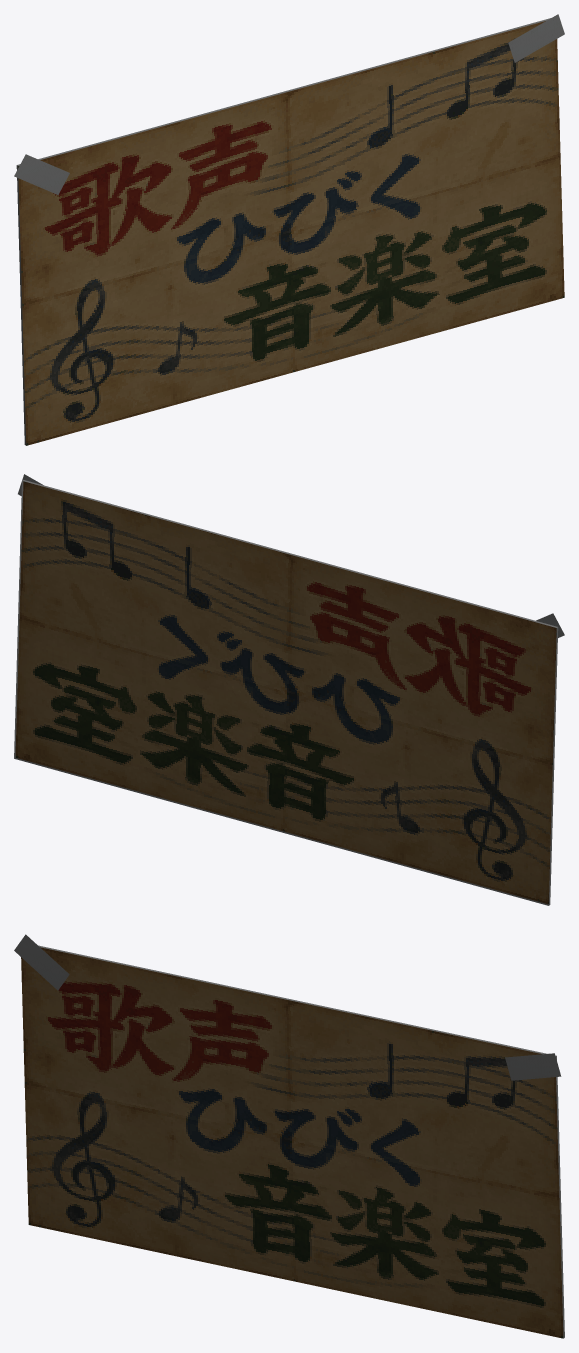
Rendered from prop_poster-ongaku-2.glb.
3 views of the same model, one above another, from view 1: azimuth 30°, elevation 25°; view 2: azimuth 150°, elevation 25°; view 3: azimuth 330°, elevation 25° (orthographic).
Parts seen in each view (by area): view 1: prop_poster-ongaku-2; view 2: prop_poster-ongaku-2; view 3: prop_poster-ongaku-2.
Part boxes in pixels (x1,y1,x2,y2): prop_poster-ongaku-2: (14,14,564,445); prop_poster-ongaku-2: (14,474,564,905); prop_poster-ongaku-2: (14,934,564,1338).
Bounding box in the file's own units: 0.6296 × 0.3306 × 0.0055.
Materials: 2 (2 with a texture image).
